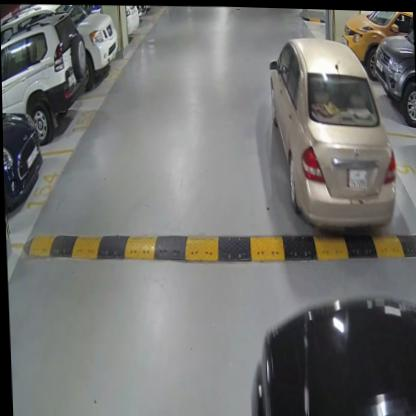np: (346, 166, 365, 185)
